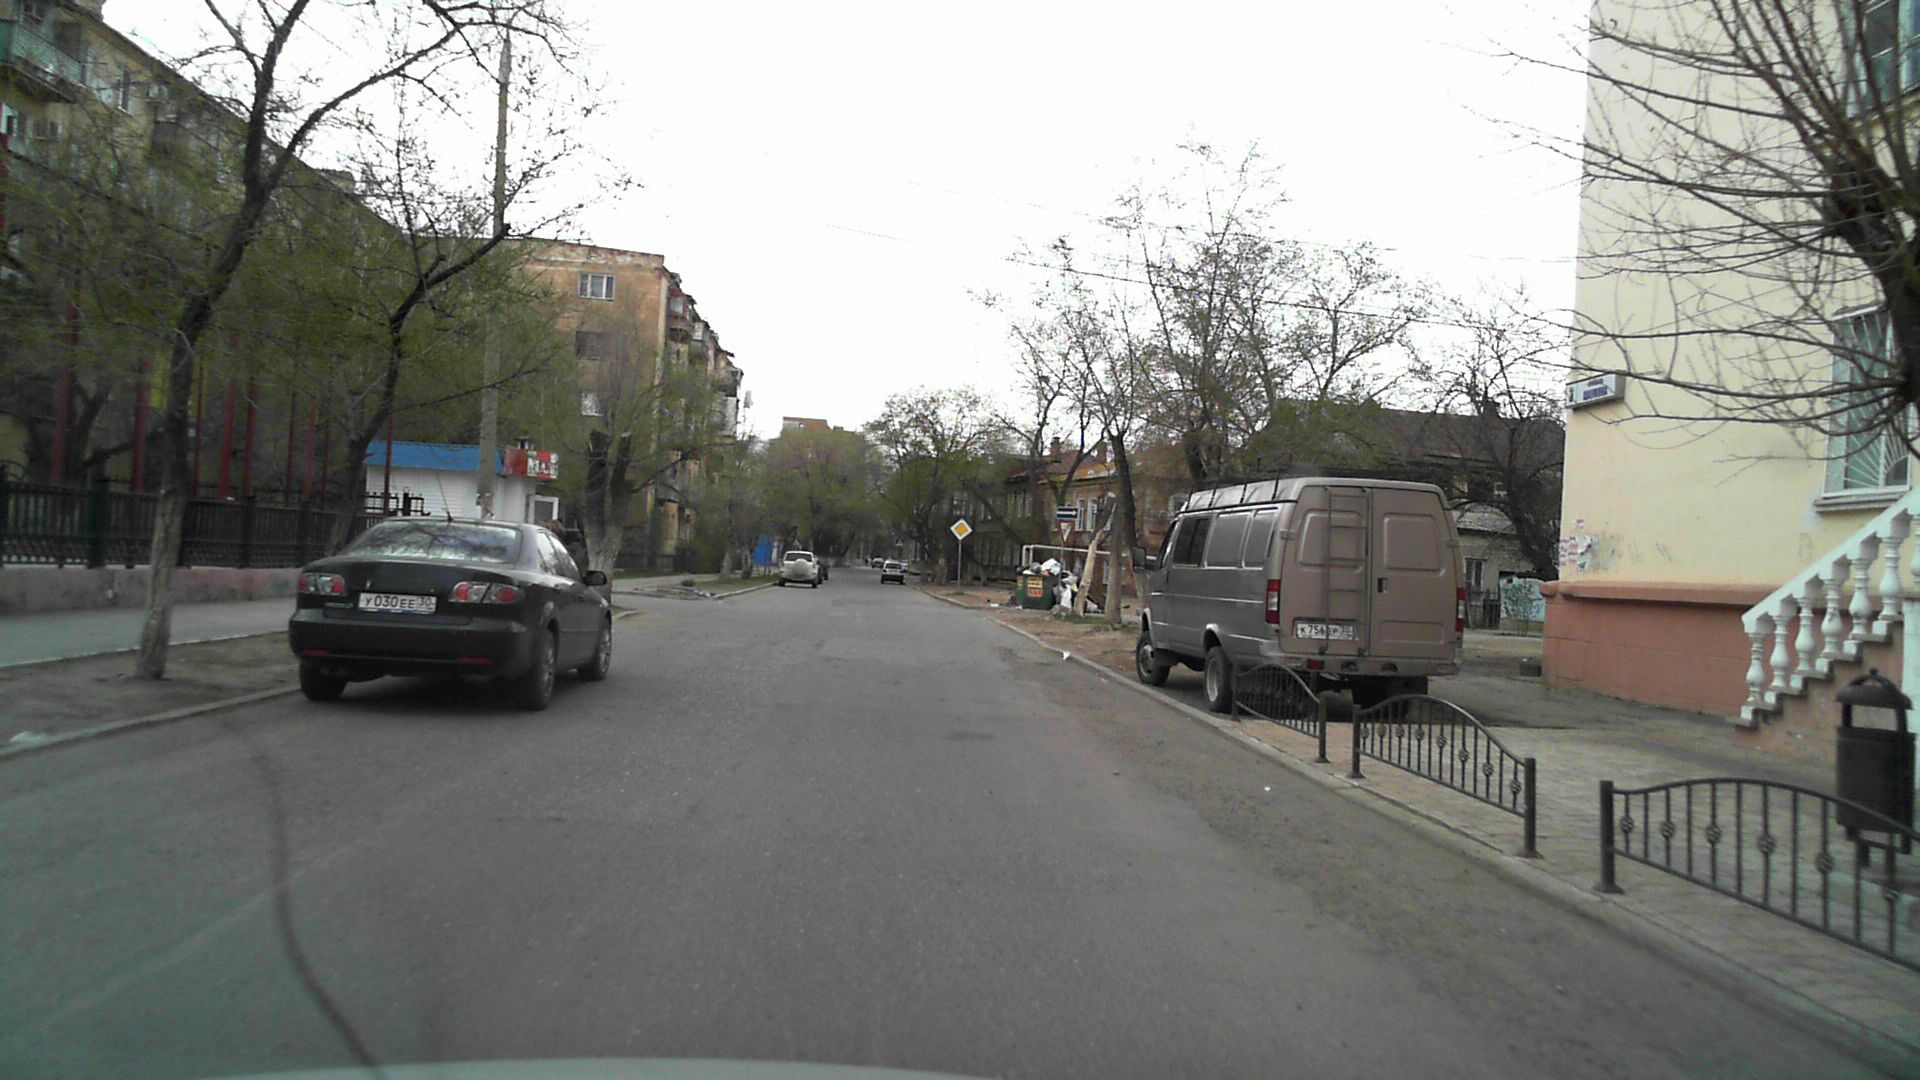One-Way Traffic: (1056, 506, 1079, 518)
